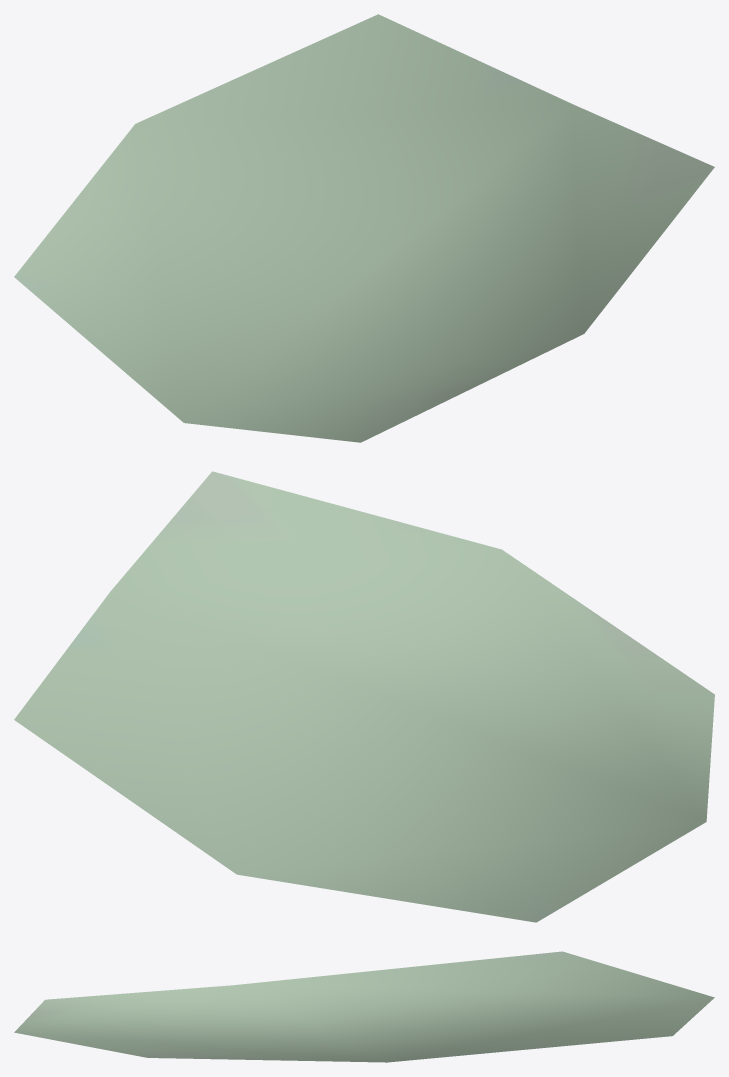
The model's file is TROLLHOLE02_HOLECAP93.fbx.
3 renders of one model, top to bottom at view 1: azimuth 30°, elevation 25°; view 2: azimuth 150°, elevation 25°; view 3: azimuth 270°, elevation 25°, orthographic. The views are drawn at different scales.
Parts seen in each view (by area): view 1: TROLLHOLE02_HOLECAP93; view 2: TROLLHOLE02_HOLECAP93; view 3: TROLLHOLE02_HOLECAP93.
Boxes of the visible parts, x1,y1,x2,y2 form: TROLLHOLE02_HOLECAP93: (14,14,714,442); TROLLHOLE02_HOLECAP93: (14,471,714,922); TROLLHOLE02_HOLECAP93: (14,951,714,1062).
Size of the model in its own units: 8703 by 2799 by 10443.
1 material, 1 textured.
